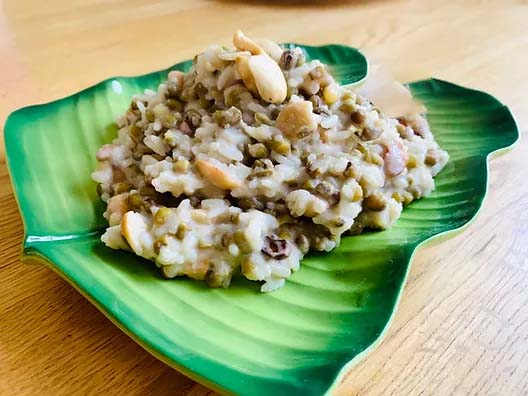kiribath: (97, 27, 443, 289)
